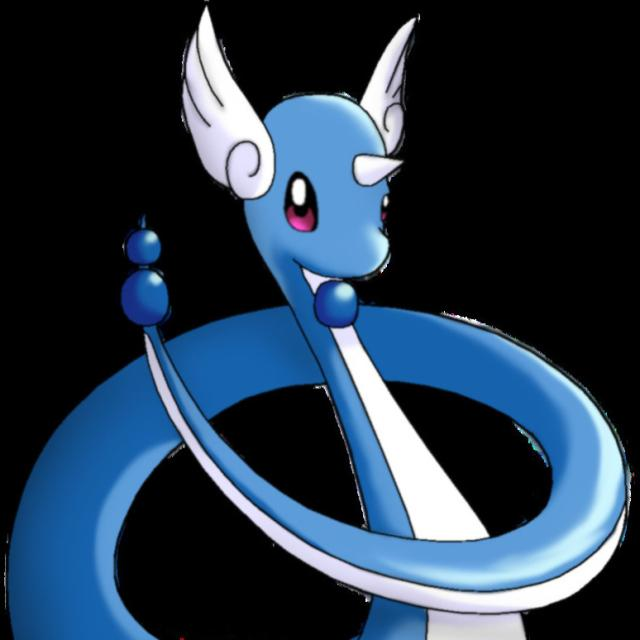Dragonair: (129, 16, 520, 640)
